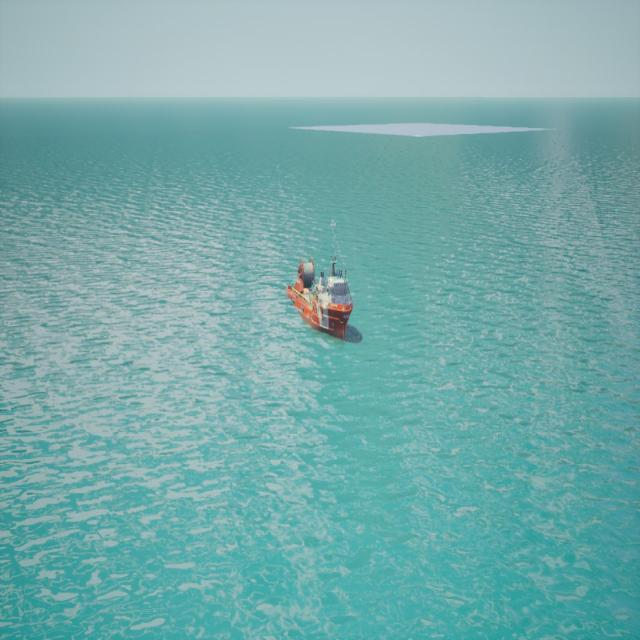tug boat: (288, 221, 356, 343)
